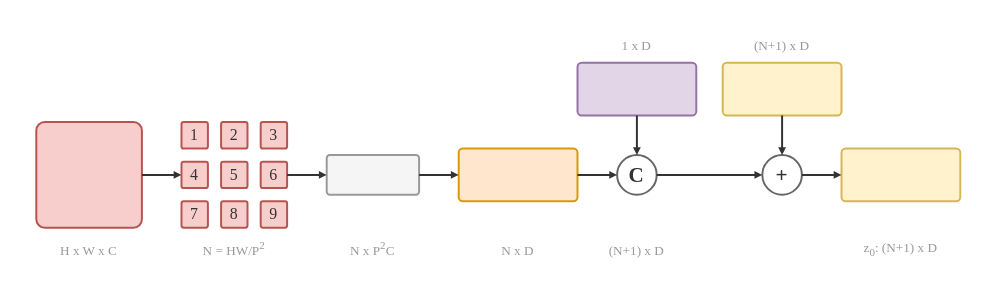
Some shapes in this 1008 by 294 pixel diagram are drawn without their labels. Each missing label, with the centre of its shape:
"[CLS] Token" goes at (x=636, y=88).
"Embedded Patches" goes at (x=900, y=174).
"Flatten" goes at (x=372, y=174).
"Image" goes at (x=88, y=174).
"Linear Projection" goes at (x=517, y=174).
"Position Embedding" goes at (x=781, y=88).
